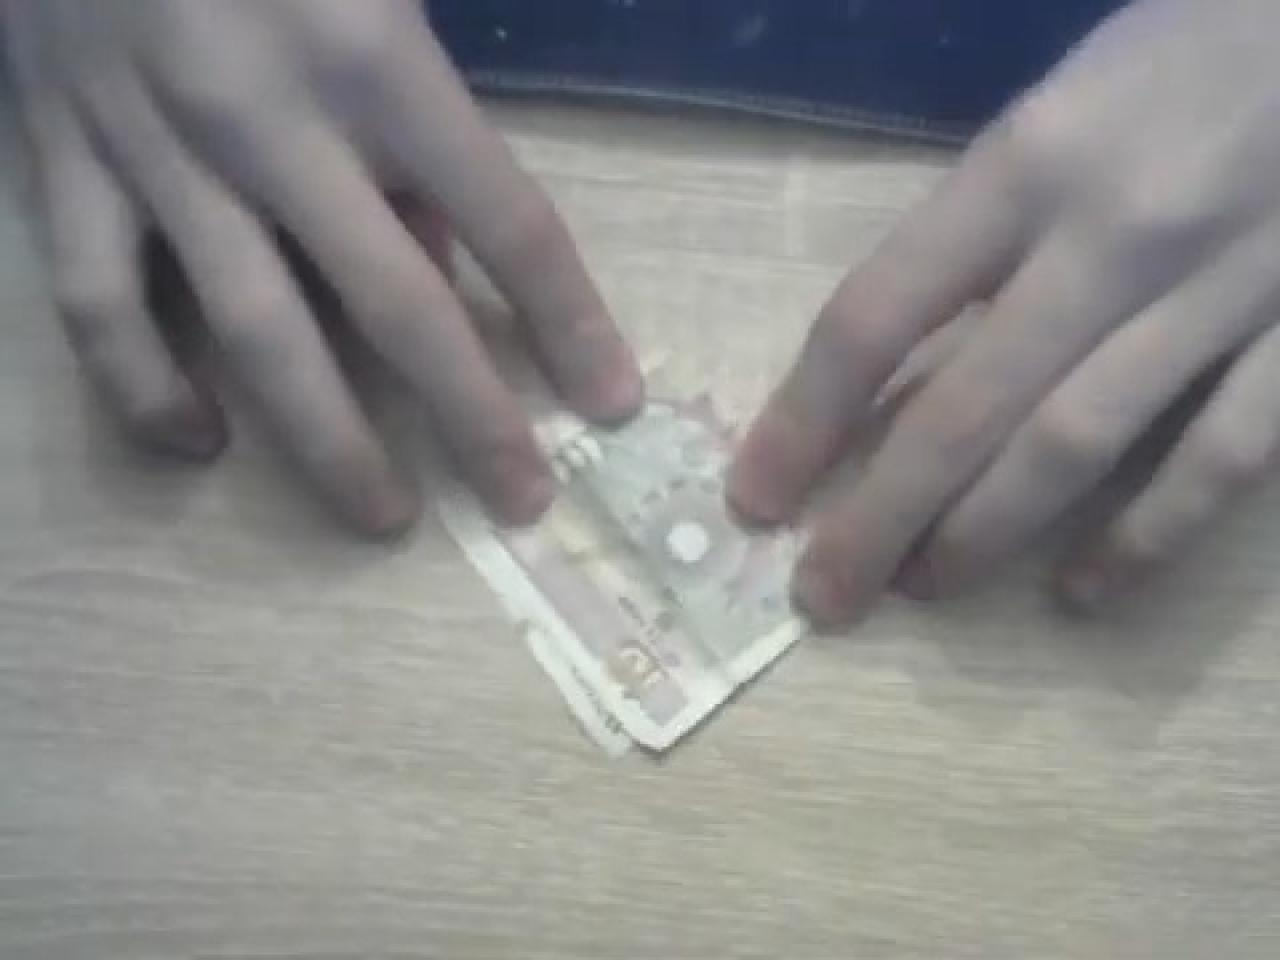10leva: (445, 402, 805, 760)
